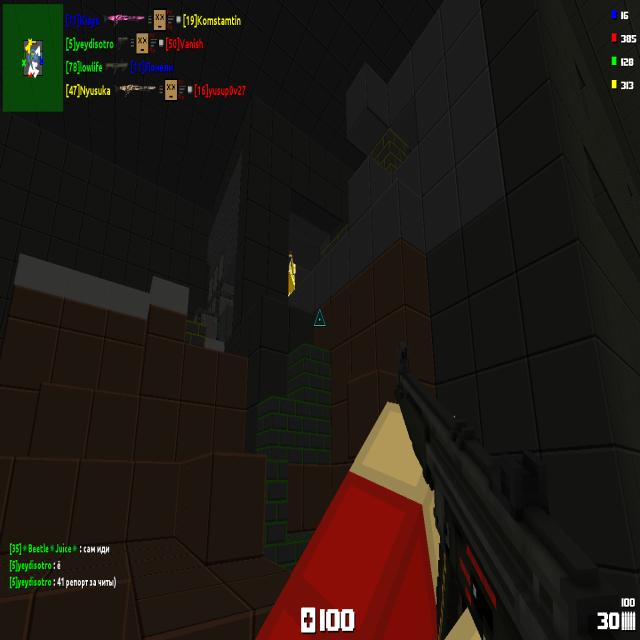enemy: (287, 249, 297, 296)
